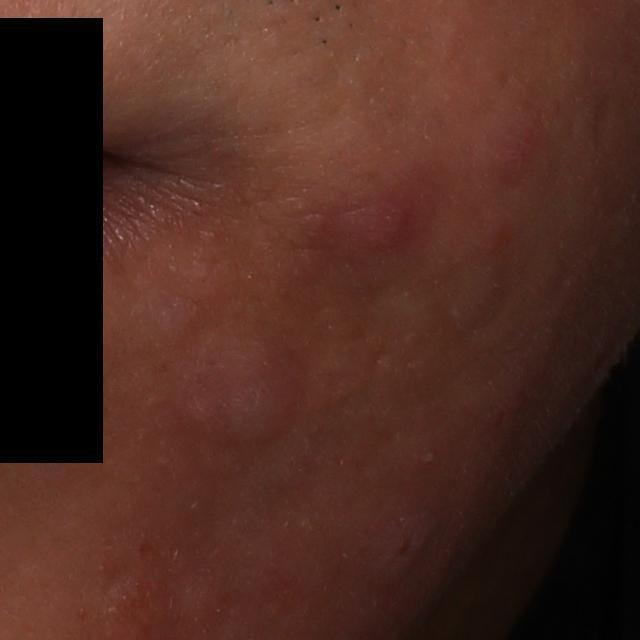nodule: (147, 324, 318, 469)
papule: (354, 191, 419, 261), (482, 122, 541, 179)
